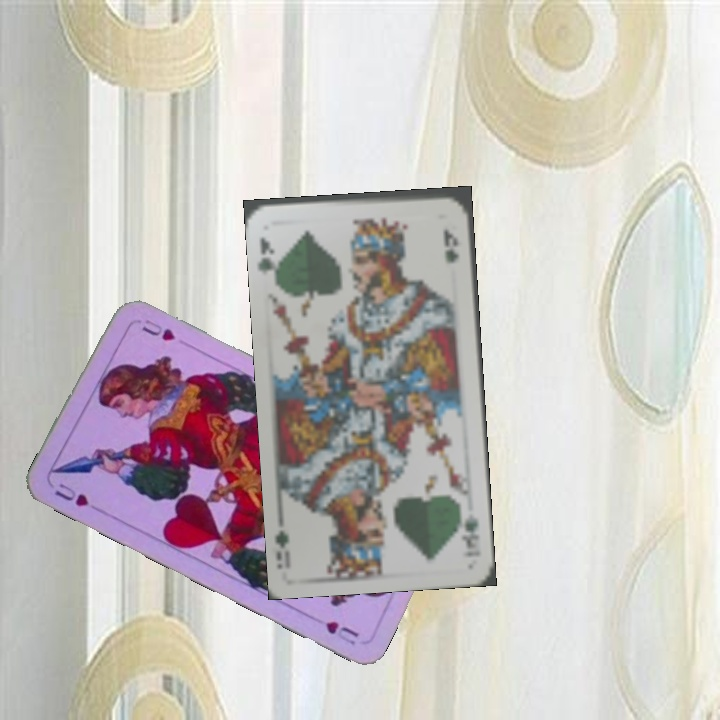GK: (254, 233, 281, 277), (458, 510, 482, 552)
HU: (50, 479, 92, 509)
